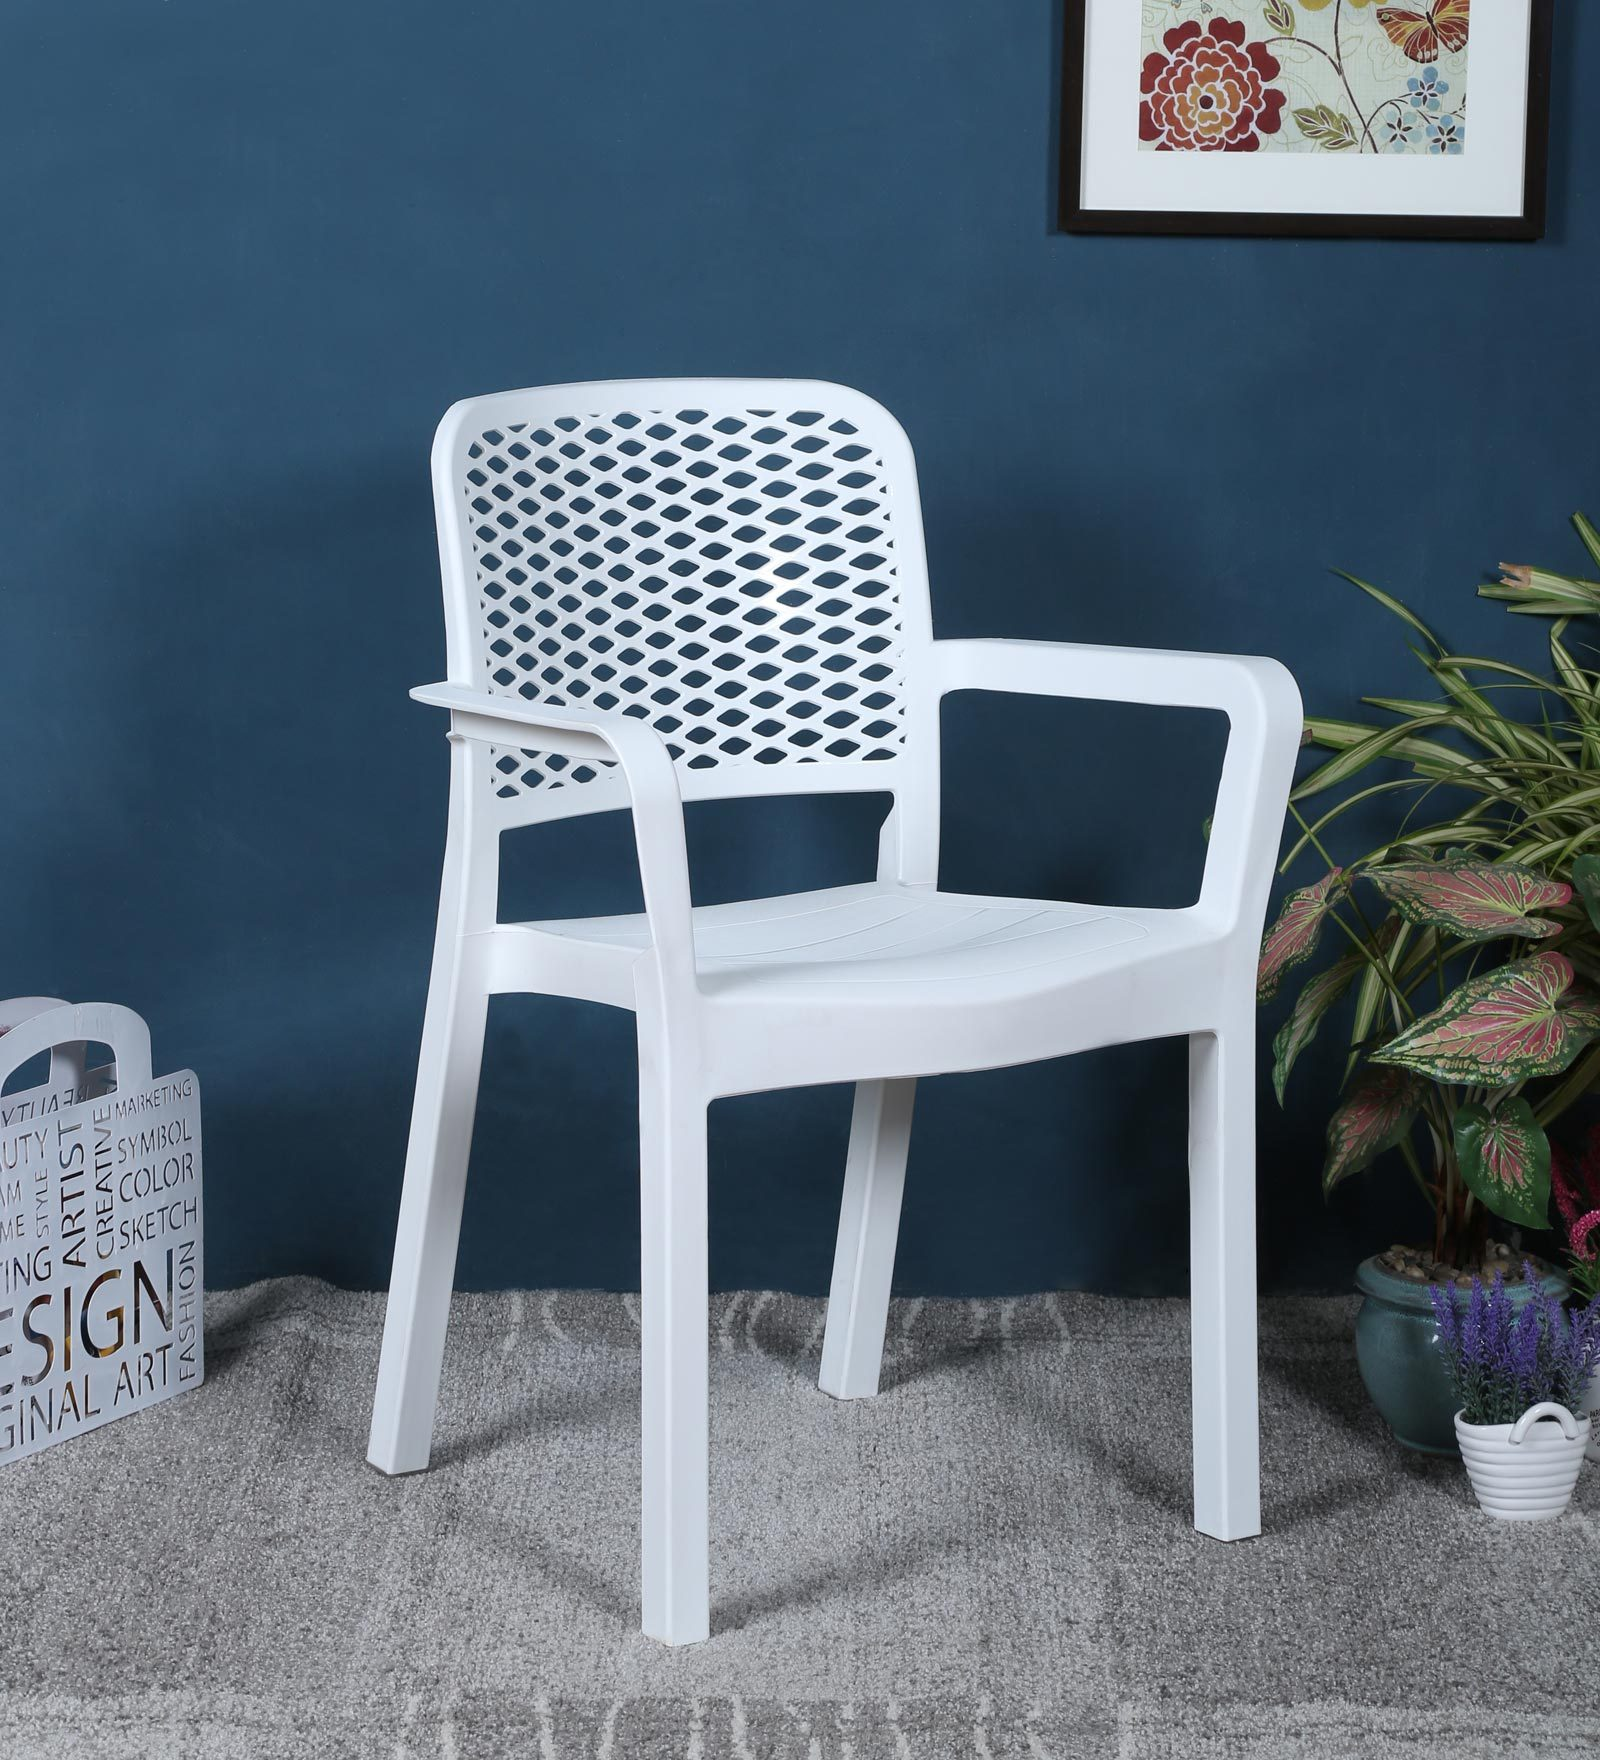Luxury Plastic Chair in White Colour by Italica Furniture: (362, 363, 1321, 1643)
